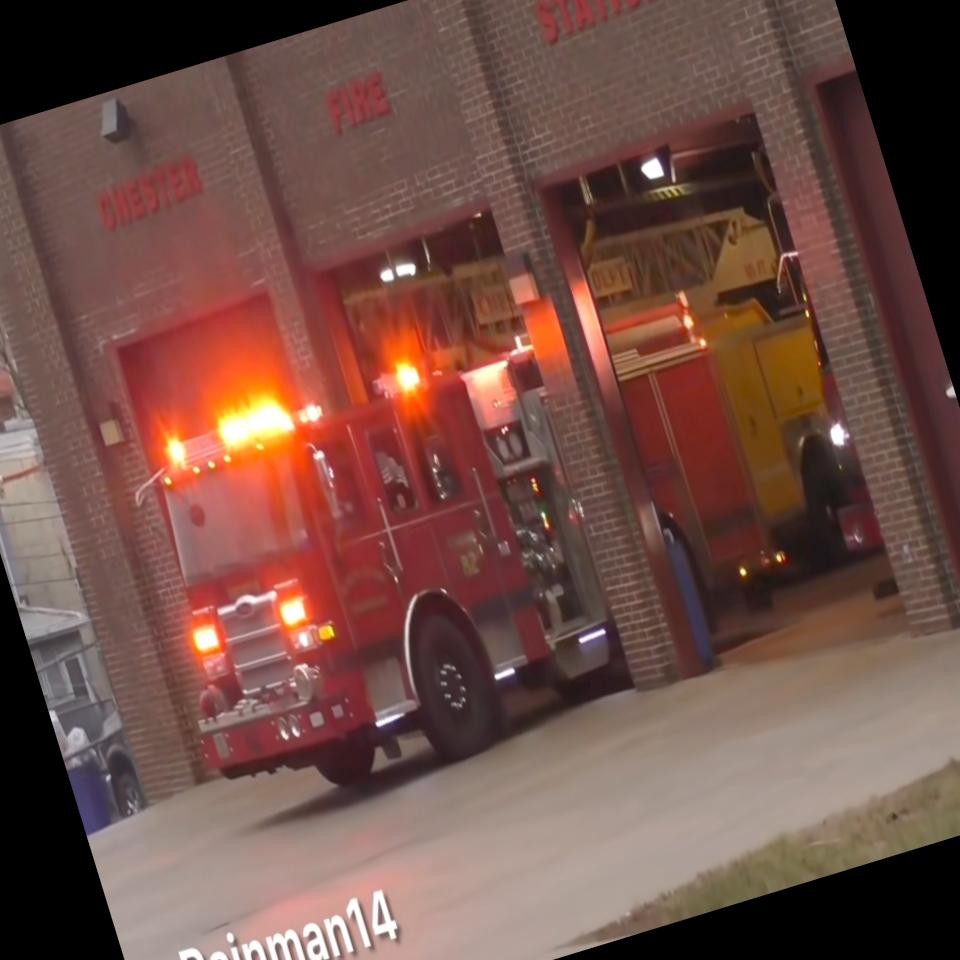viatura: (111, 275, 802, 824)
